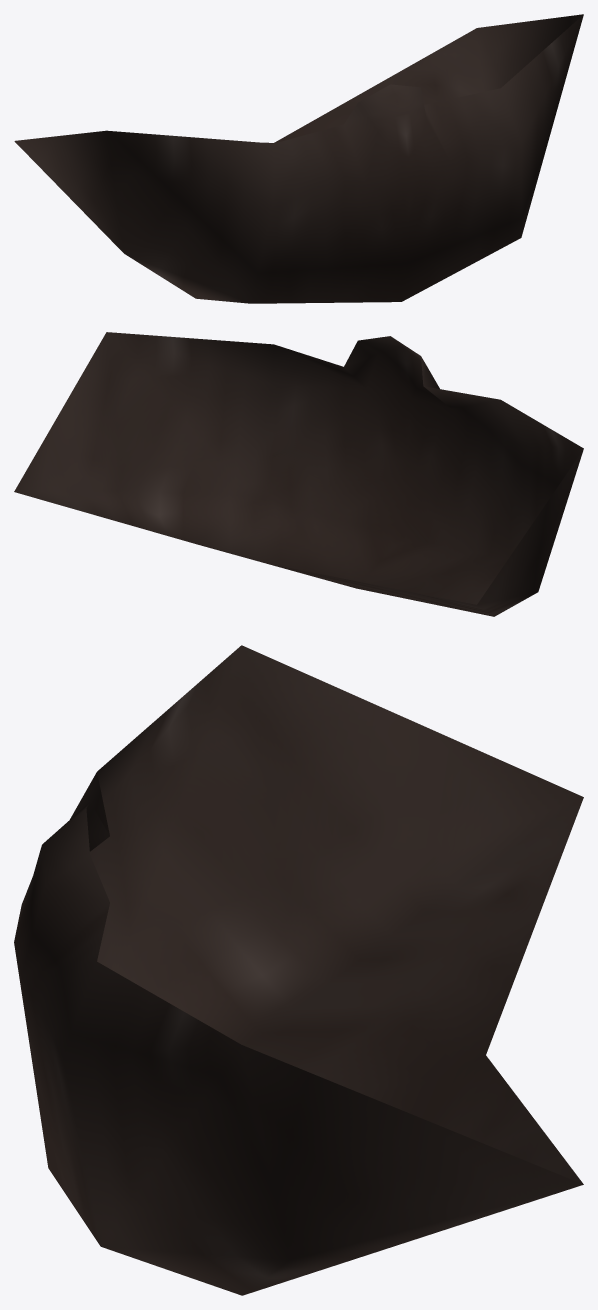
Rendered from hair_facial_M03.fbx.
3 views of the same model, one above another, from view 1: azimuth 30°, elevation 25°; view 2: azimuth 150°, elevation 25°; view 3: azimuth 270°, elevation 25° (orthographic). The views are drawn at different scales.
Parts seen in each view (by area): view 1: hair_facial_M04; view 2: hair_facial_M04; view 3: hair_facial_M04.
Part boxes in pixels (box(x1,y1,x2,y2)): hair_facial_M04: box(14, 14, 583, 303); hair_facial_M04: box(14, 332, 583, 616); hair_facial_M04: box(14, 645, 583, 1295).
Size of the model in its own units: 3.35 by 1.52 by 2.02.
